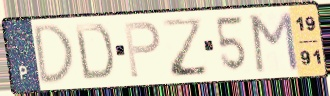5: (213, 15, 251, 75)
D: (32, 22, 76, 88), (72, 22, 116, 82)
M: (248, 10, 301, 75)
P: (122, 20, 163, 80)
Z: (160, 15, 212, 79)
